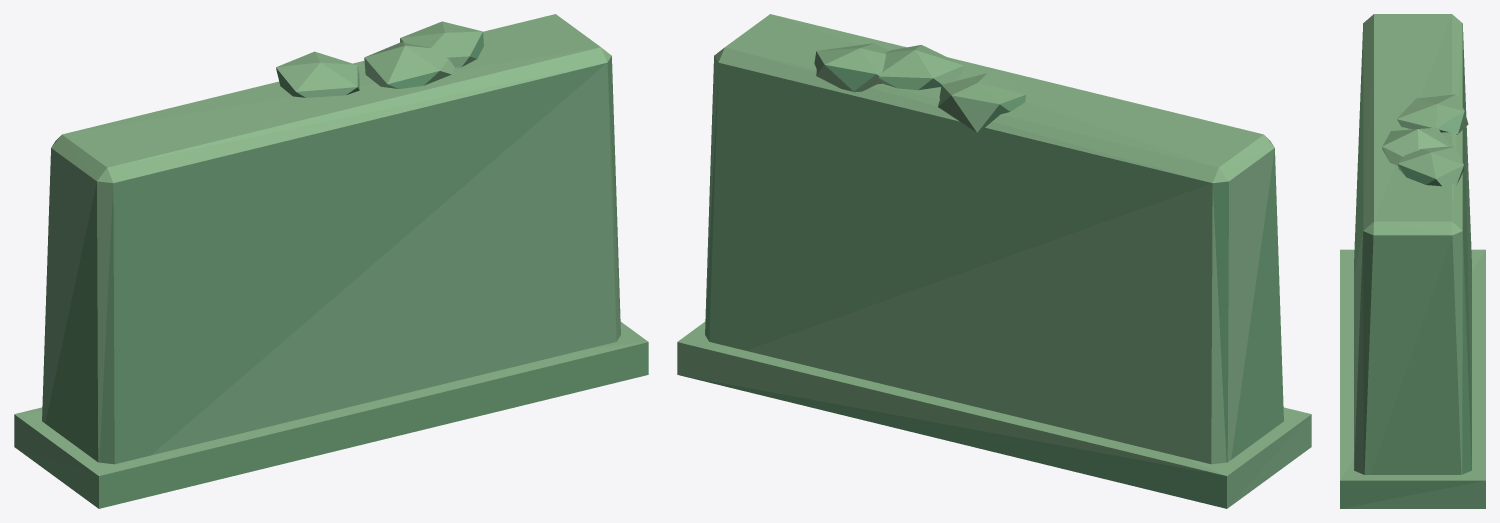
Rendered from hedge-block-00.glb.
3 renders of one model, left to right at view 1: azimuth 30°, elevation 25°; view 2: azimuth 150°, elevation 25°; view 3: azimuth 270°, elevation 25°, orthographic. The views are drawn at different scales.
Visible parts, largest first — view 1: hedge_block_00; view 2: hedge_block_00; view 3: hedge_block_00.
Part boxes in pixels (bbox=[...]): hedge_block_00: bbox=[14, 14, 648, 508]; hedge_block_00: bbox=[677, 14, 1311, 508]; hedge_block_00: bbox=[1340, 14, 1485, 508].
Bounding box in the file's own units: 2.1 × 1.26 × 0.5614.
